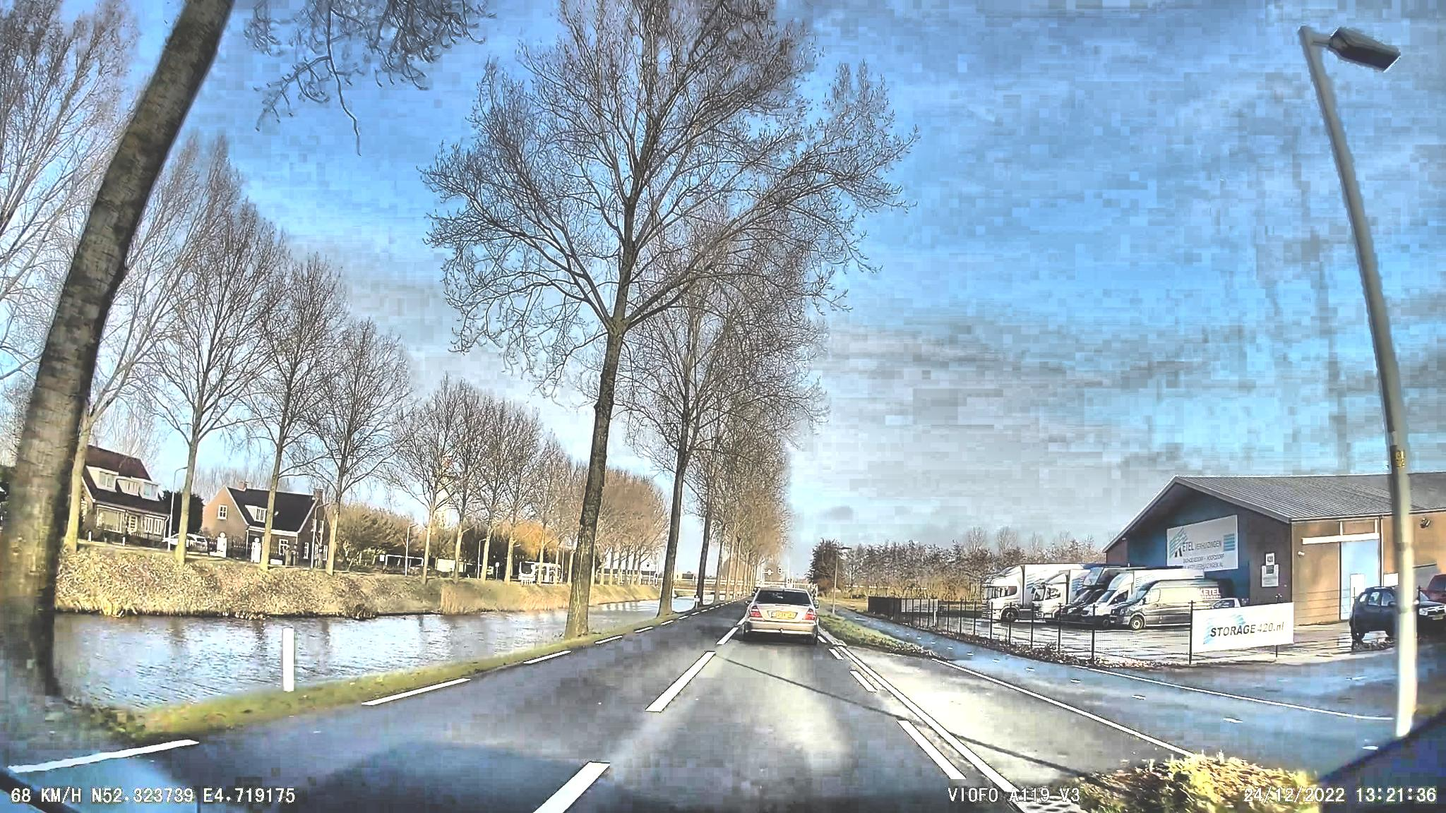Roads: (4, 601, 1397, 813)
